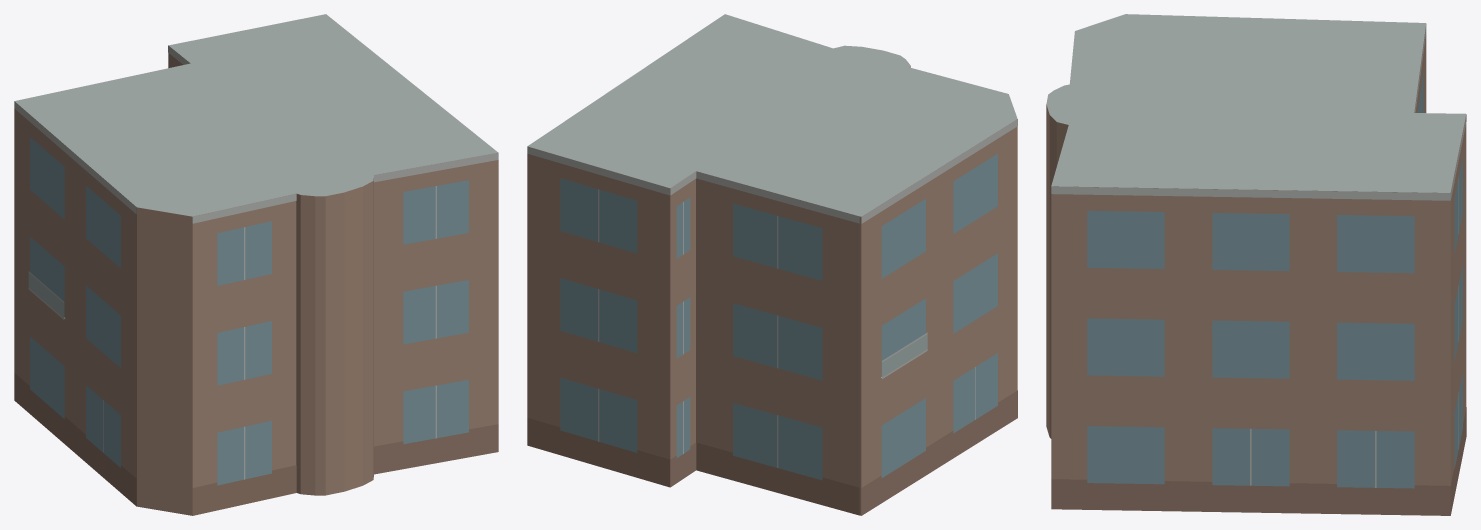
Rendered from survey-upis-32766841.glb.
3 views of the same model, side by side, from view 1: azimuth 30°, elevation 25°; view 2: azimuth 150°, elevation 25°; view 3: azimuth 270°, elevation 25° (orthographic). The views are drawn at different scales.
Visible parts, largest first — view 1: survey-upis-32766841.tmp; view 2: survey-upis-32766841.tmp; view 3: survey-upis-32766841.tmp.
Part boxes in pixels (x1=…): survey-upis-32766841.tmp: x1=14, y1=14, x2=498, y2=515; survey-upis-32766841.tmp: x1=527, y1=14, x2=1017, y2=515; survey-upis-32766841.tmp: x1=1046, y1=14, x2=1466, y2=515.
Bounding box in the file's own units: 12.02 × 10.1 × 11.91.
